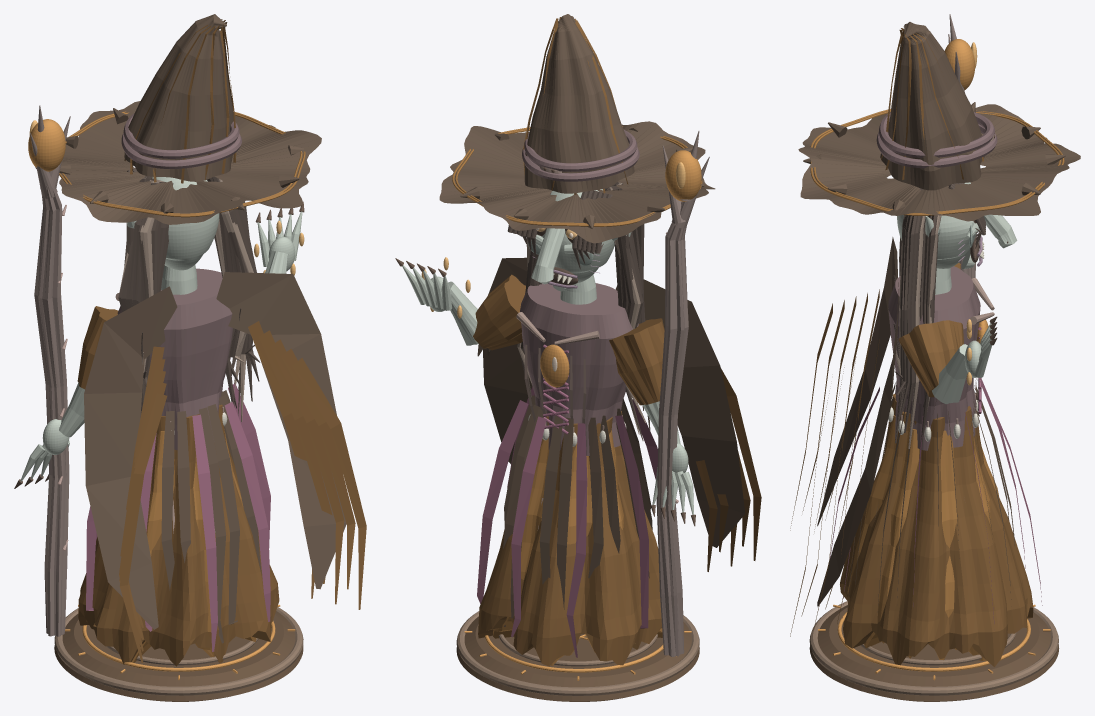
The model's file is reine_maudite_orange.fbx.
3 views of the same model, side by side, from view 1: azimuth 30°, elevation 25°; view 2: azimuth 150°, elevation 25°; view 3: azimuth 270°, elevation 25° (orthographic). The views are drawn at different scales.
Parts seen in each view (by area): view 1: Cape_Shoulder_Panels, Costume_Dress_Main, Cape_Tattered_Hem, Hat_Warped_Brim, Hat_Bent_Pointed_Crown, Staff_Gnarled_Wood, Costume_Shredded_Layers.001, Base_Obsidian_Platform, Torso_Corset, Costume_Shredded_Layers, Hair_Witch_Tendrils, Base_Engraved_Ring (+17 smaller); view 2: Costume_Dress_Main, Hat_Warped_Brim, Cape_Shoulder_Panels, Hat_Bent_Pointed_Crown, Torso_Corset, Costume_Shredded_Layers.001, Costume_Shredded_Layers, Staff_Gnarled_Wood, Base_Obsidian_Platform, Costume_Inner_Spectral_Petticoat, Arms_Ragged_Sleeves_L, Cape_Tattered_Hem (+22 smaller); view 3: Costume_Dress_Main, Hat_Warped_Brim, Hat_Bent_Pointed_Crown, Base_Obsidian_Platform, Cape_Shoulder_Panels, Costume_Inner_Spectral_Petticoat, Torso_Corset, Hair_Witch_Tendrils, Base_Engraved_Ring, Cape_Tattered_Hem, Arms_Ragged_Sleeves_R, Hat_Leather_Band (+13 smaller).
Part boxes in pixels (x1,y1,x2,y2): Cape_Shoulder_Panels: [84, 272, 346, 629]; Costume_Dress_Main: [78, 404, 279, 666]; Cape_Tattered_Hem: [119, 321, 366, 662]; Hat_Warped_Brim: [59, 101, 321, 224]; Hat_Bent_Pointed_Crown: [124, 14, 233, 181]; Staff_Gnarled_Wood: [34, 171, 69, 636]; Costume_Shredded_Layers.001: [140, 390, 261, 643]; Base_Obsidian_Platform: [54, 611, 303, 701]; Torso_Corset: [117, 268, 232, 450]; Costume_Shredded_Layers: [86, 383, 270, 651]; Hair_Witch_Tendrils: [118, 176, 260, 415]; Base_Engraved_Ring: [54, 607, 303, 695]; Costume_Dress_Main: [478, 411, 661, 666]; Hat_Warped_Brim: [439, 121, 715, 243]; Cape_Shoulder_Panels: [483, 257, 745, 547]; Hat_Bent_Pointed_Crown: [524, 14, 634, 193]; Torso_Corset: [520, 283, 638, 455]; Costume_Shredded_Layers.001: [503, 395, 652, 626]; Costume_Shredded_Layers: [477, 386, 657, 657]; Staff_Gnarled_Wood: [656, 201, 688, 656]; Base_Obsidian_Platform: [456, 616, 699, 701]; Costume_Inner_Spectral_Petticoat: [493, 430, 662, 665]; Arms_Ragged_Sleeves_L: [609, 318, 664, 405]; Cape_Tattered_Hem: [696, 368, 761, 571]; Costume_Dress_Main: [840, 393, 1033, 666]; Hat_Warped_Brim: [798, 104, 1080, 221]; Hat_Bent_Pointed_Crown: [880, 22, 984, 190]; Base_Obsidian_Platform: [809, 605, 1059, 701]; Cape_Shoulder_Panels: [817, 237, 898, 606]; Costume_Inner_Spectral_Petticoat: [847, 415, 998, 660]; Torso_Corset: [888, 266, 980, 450]; Hair_Witch_Tendrils: [893, 188, 941, 449]; Base_Engraved_Ring: [809, 601, 1058, 695]; Cape_Tattered_Hem: [790, 289, 879, 636]; Arms_Ragged_Sleeves_R: [898, 320, 963, 397]; Hat_Leather_Band: [876, 112, 997, 168].
Size of the model in its own units: 88.46 by 182 by 74.58.
